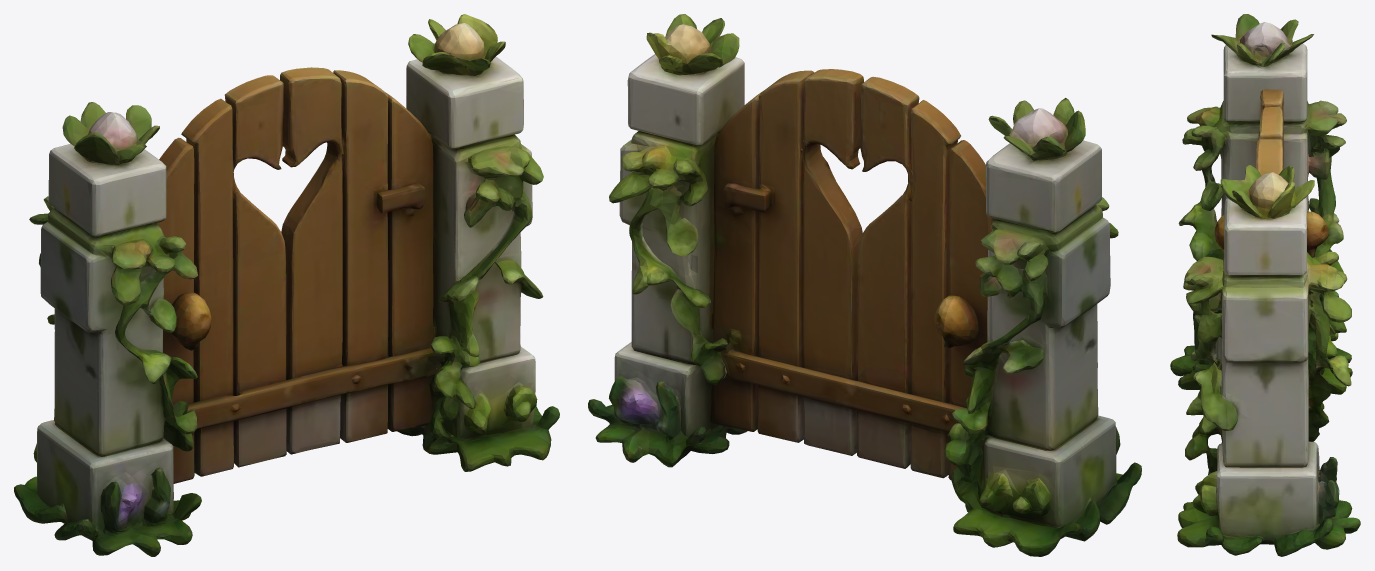
The picture shows the model from 3 angles, left to right: view 1: azimuth 30°, elevation 25°; view 2: azimuth 150°, elevation 25°; view 3: azimuth 270°, elevation 25°; orthographic projection. The views are drawn at different scales.
Parts seen in each view (by area): view 1: world; view 2: world; view 3: world.
Boxes of the visible parts, x1,y1,x2,y2 form: world: [14, 14, 559, 556]; world: [588, 14, 1141, 556]; world: [1170, 14, 1360, 556].
Size of the model in its own units: 0.9979 by 0.7997 by 0.3847.
Materials: 1 (1 with a texture image).
